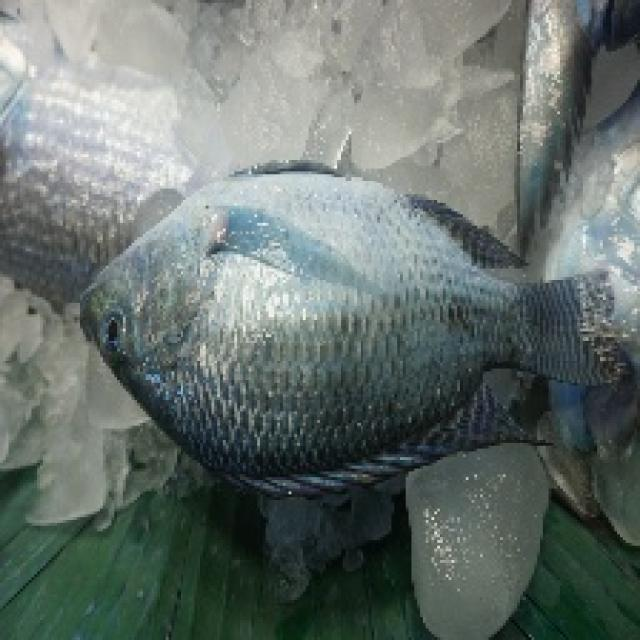Fresh: (54, 178, 640, 486)
